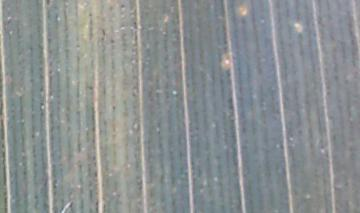tarspot: (45, 1, 51, 7)
